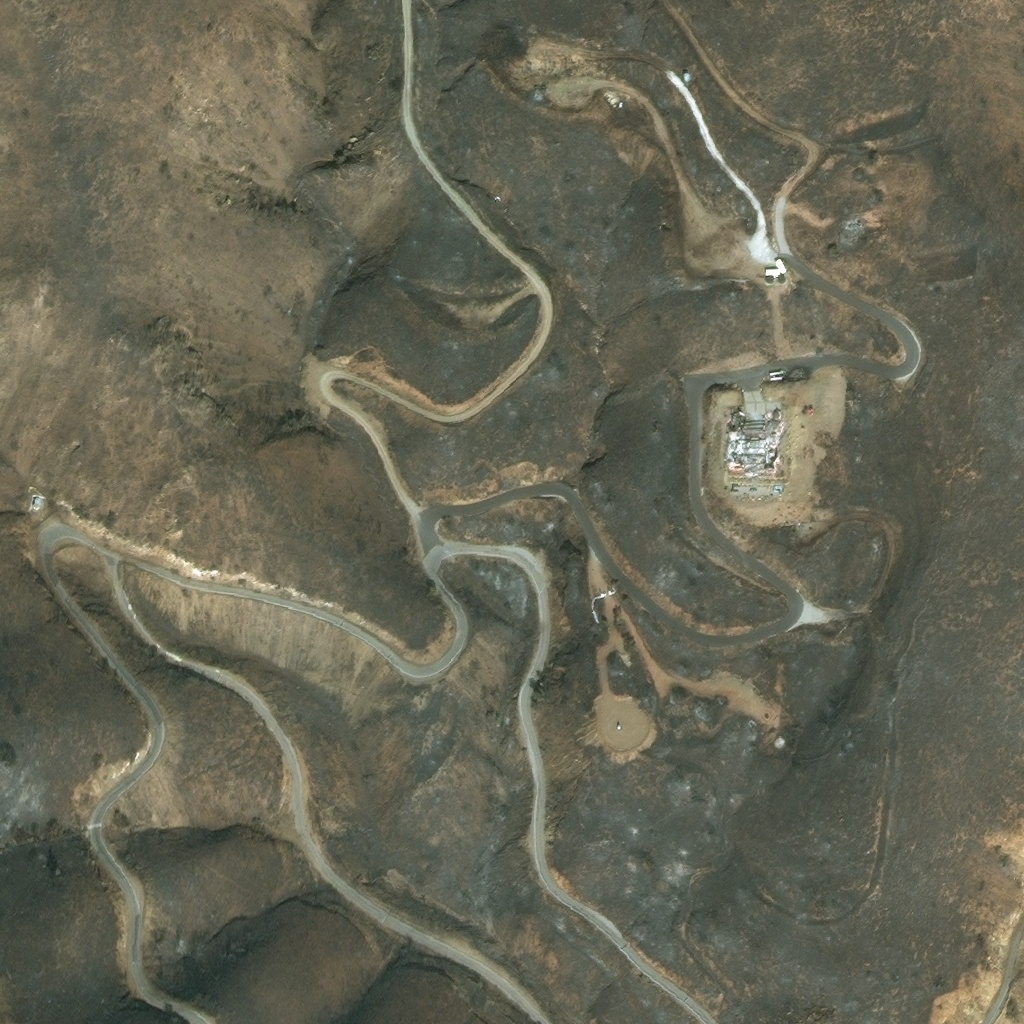0 no-damage: (769, 370, 793, 381), (774, 260, 788, 277), (31, 495, 41, 510), (765, 271, 780, 278), (683, 72, 691, 81), (766, 278, 774, 286), (778, 276, 785, 285)
3 destroyed: (727, 404, 783, 476), (843, 220, 863, 228), (673, 726, 683, 741), (681, 702, 691, 715), (686, 717, 696, 729), (665, 703, 674, 716), (662, 717, 671, 730), (680, 722, 689, 735), (773, 736, 783, 746), (674, 703, 682, 715), (773, 486, 783, 495), (534, 87, 545, 92), (535, 92, 541, 96)
